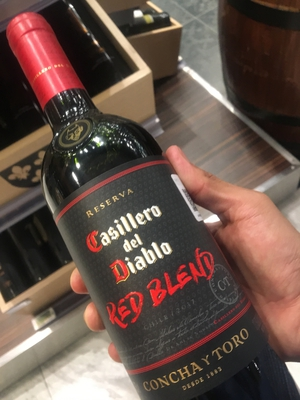casillero del diablo red blend: (17, 20, 281, 400)
